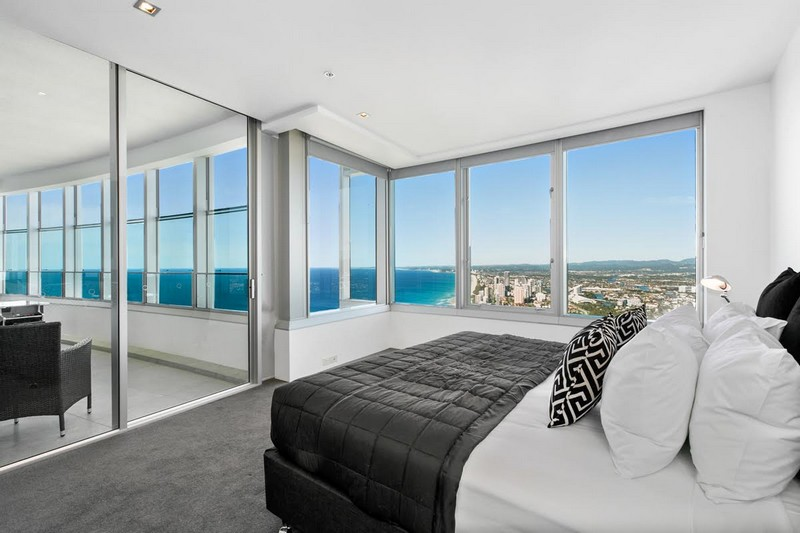bed: (263, 274, 794, 529)
lamp: (698, 271, 746, 323)
